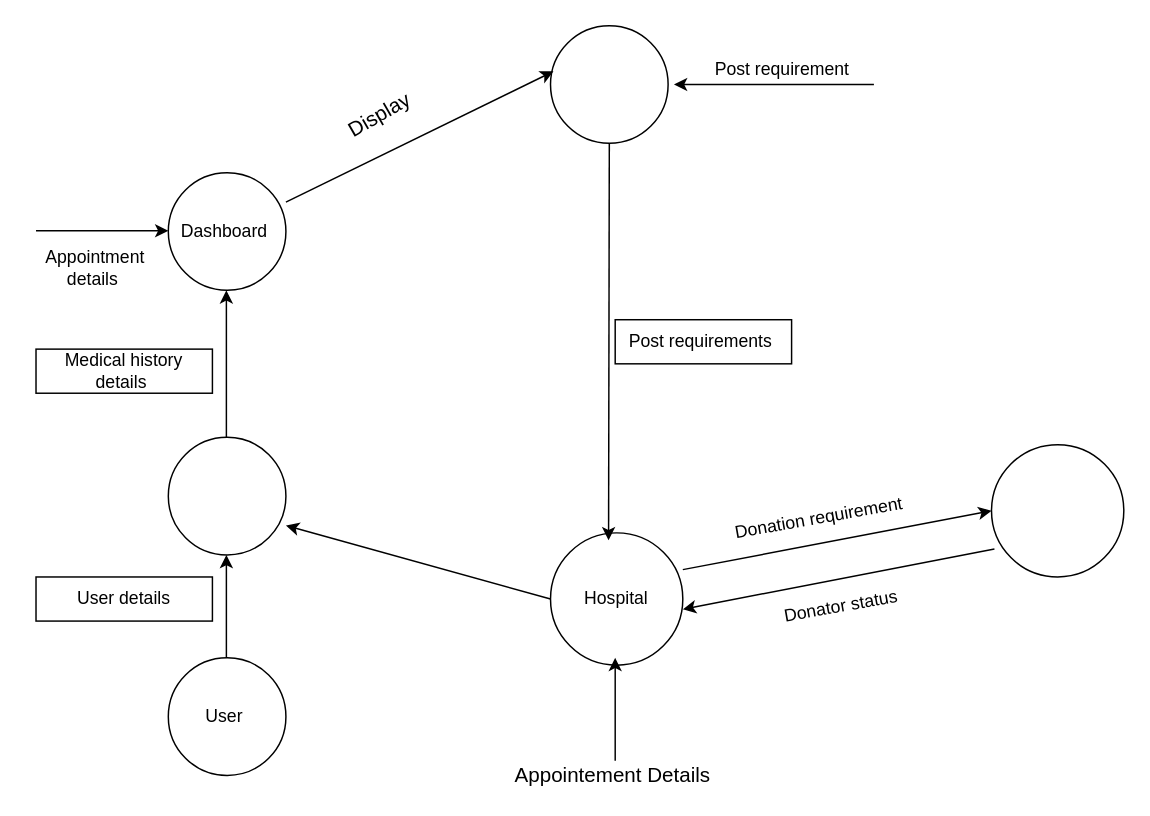
Image size: 1150x816. Some labels were removed from this diagram. The centre of each missing label's shape, as x and y in pixels:
"Donor" belongs at point 1057,510.
"Login" belongs at point 226,495.
"Receiver" belongs at point 608,83.
